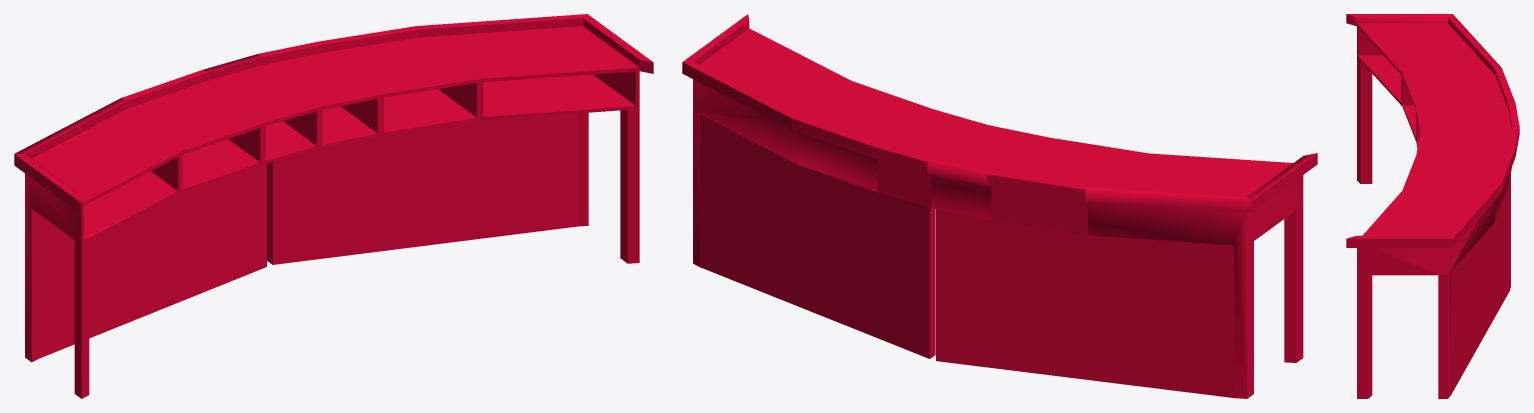
Rendered from DeskModel.fbx.
3 views of the same model, side by side, from view 1: azimuth 30°, elevation 25°; view 2: azimuth 150°, elevation 25°; view 3: azimuth 270°, elevation 25° (orthographic). The views are drawn at different scales.
Parts seen in each view (by area): view 1: Plane; view 2: Plane; view 3: Plane.
Boxes of the visible parts, <box> form: Plane: <box>14,14,653,398</box>; Plane: <box>682,14,1317,398</box>; Plane: <box>1346,14,1519,398</box>.
Bounding box in the file's own units: 1000 × 339 × 325.
